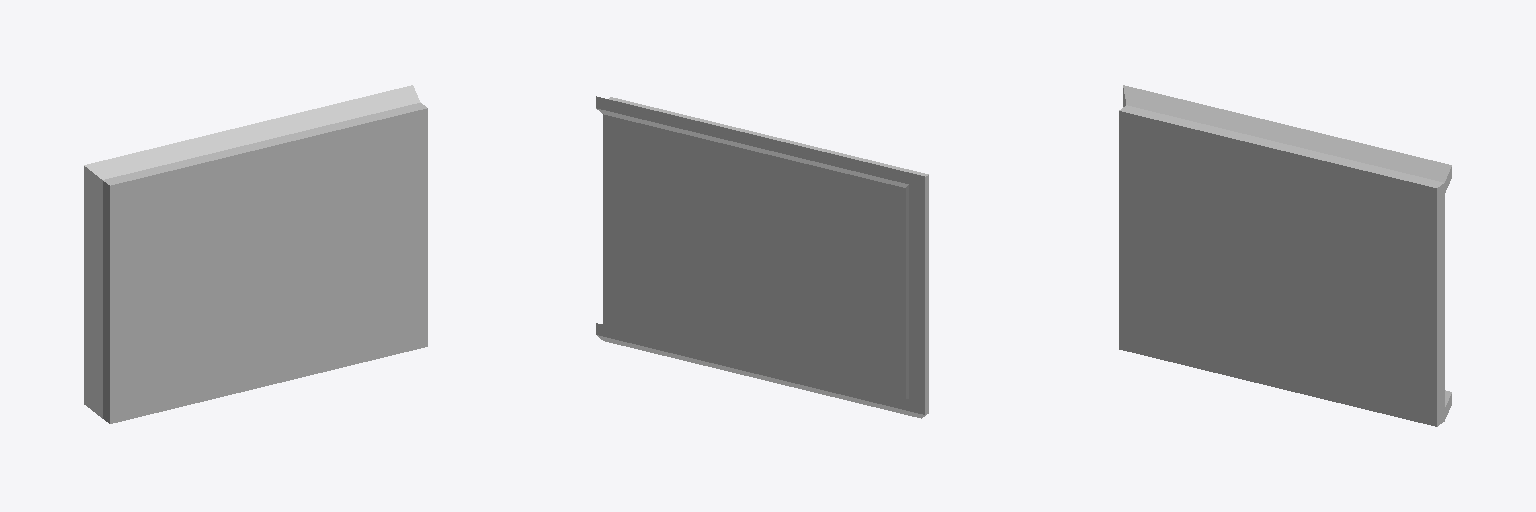
The model's file is UI_Drawer.obj.
3 views of the same model, side by side, from view 1: azimuth 30°, elevation 25°; view 2: azimuth 150°, elevation 25°; view 3: azimuth 330°, elevation 25° (orthographic).
Visible parts, largest first — view 1: UI_Drawer_Cube; view 2: UI_Drawer_Cube; view 3: UI_Drawer_Cube.
Boxes of the visible parts, <box> form: UI_Drawer_Cube: <box>84,85,427,423</box>; UI_Drawer_Cube: <box>596,96,928,418</box>; UI_Drawer_Cube: <box>1119,85,1451,426</box>.
Bounding box in the file's own units: 12.42 × 9.03 × 1.